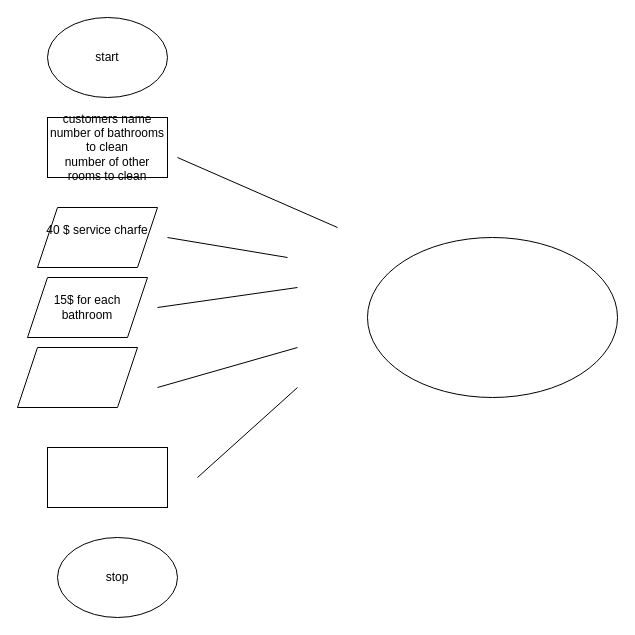
Some shapes in this 635 by 635 pixel diagram are drawn without their labels. Each missing label, with the centre of its shape:
10$ for each any other room: (x=77, y=377)
40$ service charge + 15$ for each bathroom 10$ for each other room - total cost: (x=107, y=477)
customers name 40: (x=492, y=317)
